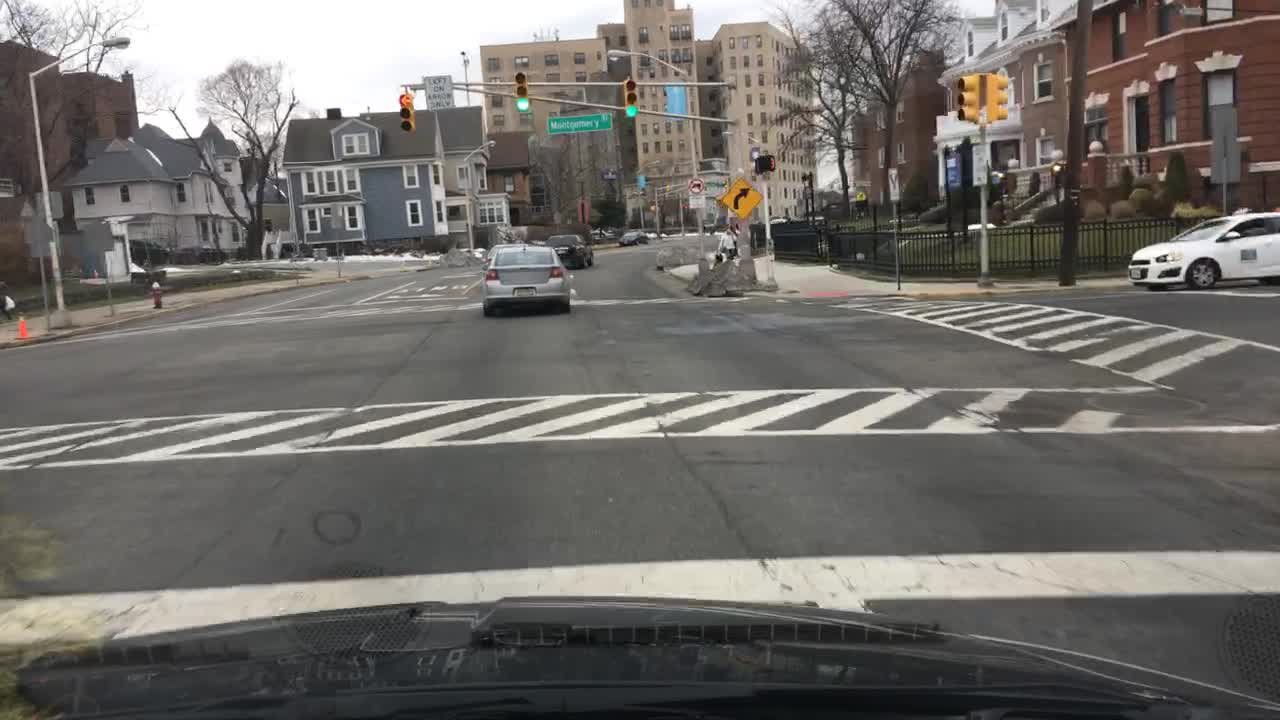car: (1124, 211, 1279, 290), (479, 243, 572, 315), (543, 231, 595, 268), (616, 228, 651, 246)
person: (0, 283, 17, 320)
traffic light: (955, 71, 980, 121), (984, 72, 1009, 121), (396, 91, 415, 133), (511, 71, 530, 111), (624, 72, 638, 116), (752, 152, 773, 175)
traffic sign: (720, 179, 762, 216), (546, 111, 612, 133), (422, 74, 455, 111), (968, 142, 989, 185), (685, 174, 707, 197)
